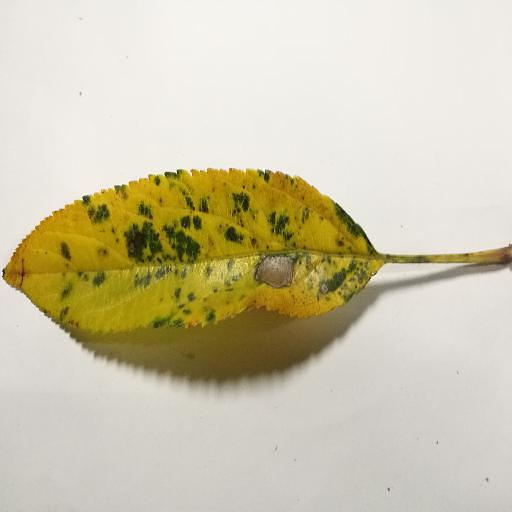Brown_Spot: (247, 247, 317, 295)
